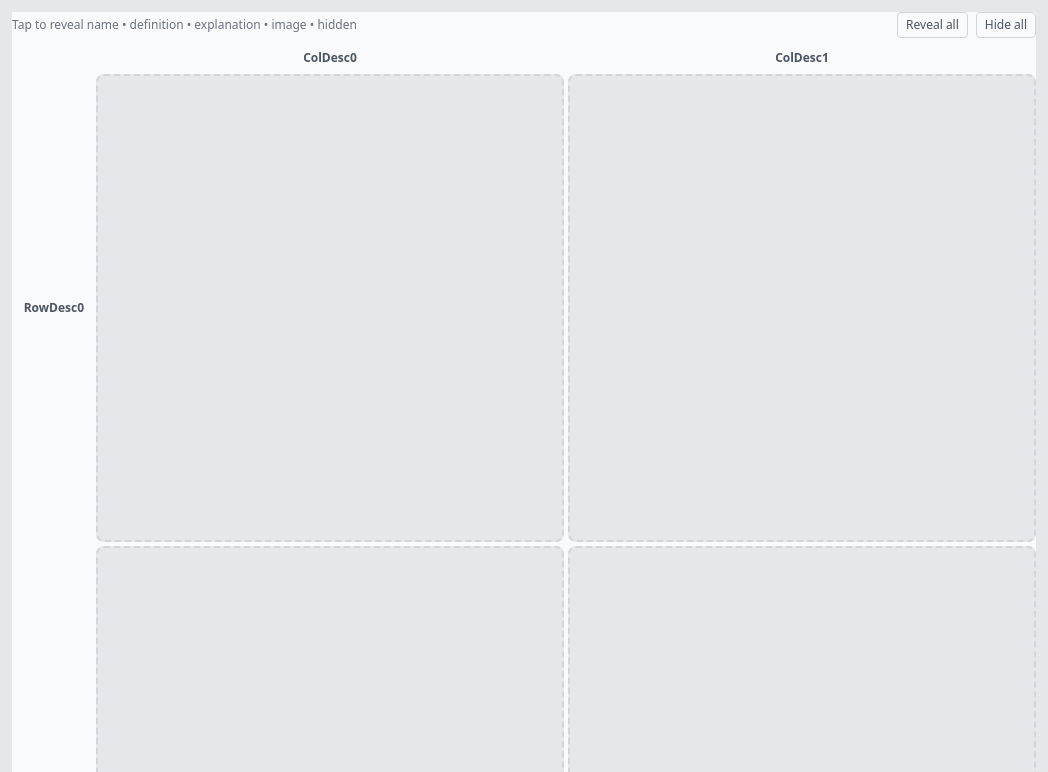
Scenario: MatrixRevealView — diagonal cell reveal cycle › first tap reveals the label text (name stage)
Step 1. Click the 1st button titled "Tap to reveal" → point(330, 308), box [96,74,564,542]
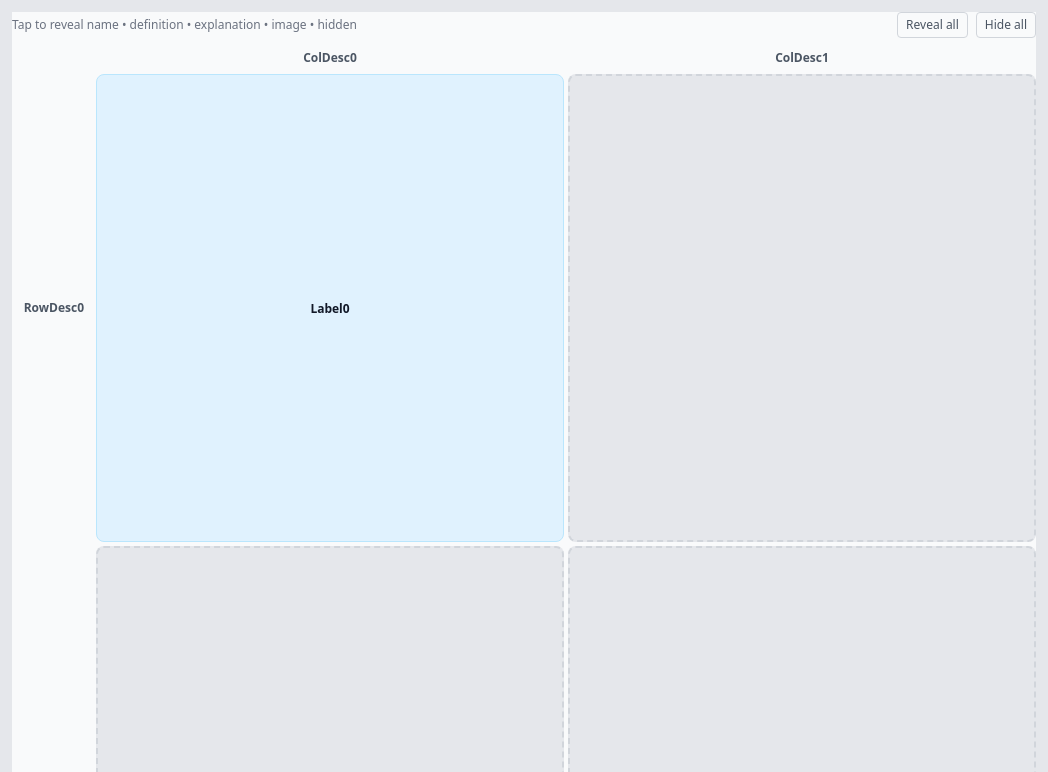
Now the text "Label0" is shown, box [310,300,350,316]
